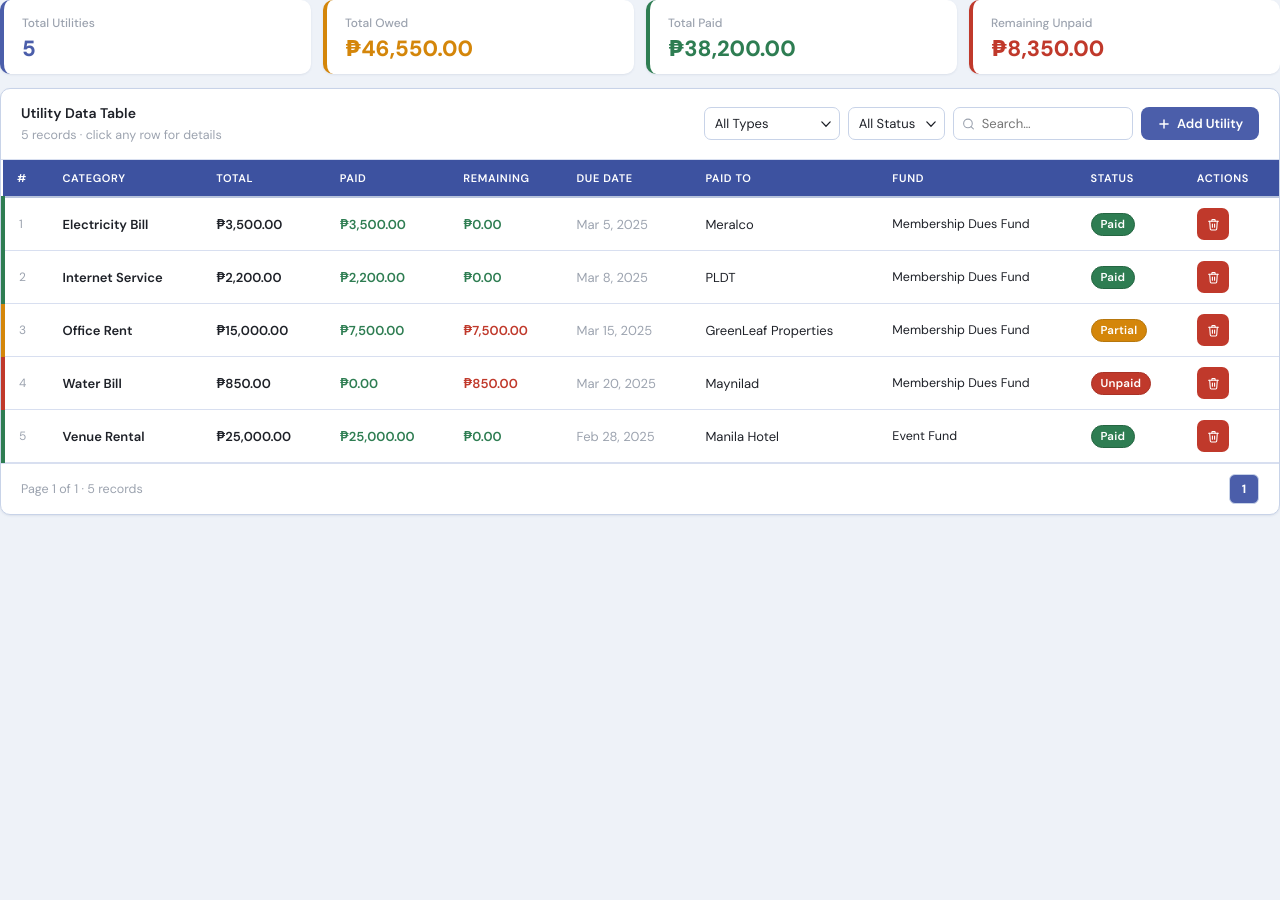
Test case: Edit Utility form › lowering the total to what is already paid turns the bill Paid; raising it keeps it Partial
Click the text "Office Rent": coordinates (125, 330) [48,304,202,357]
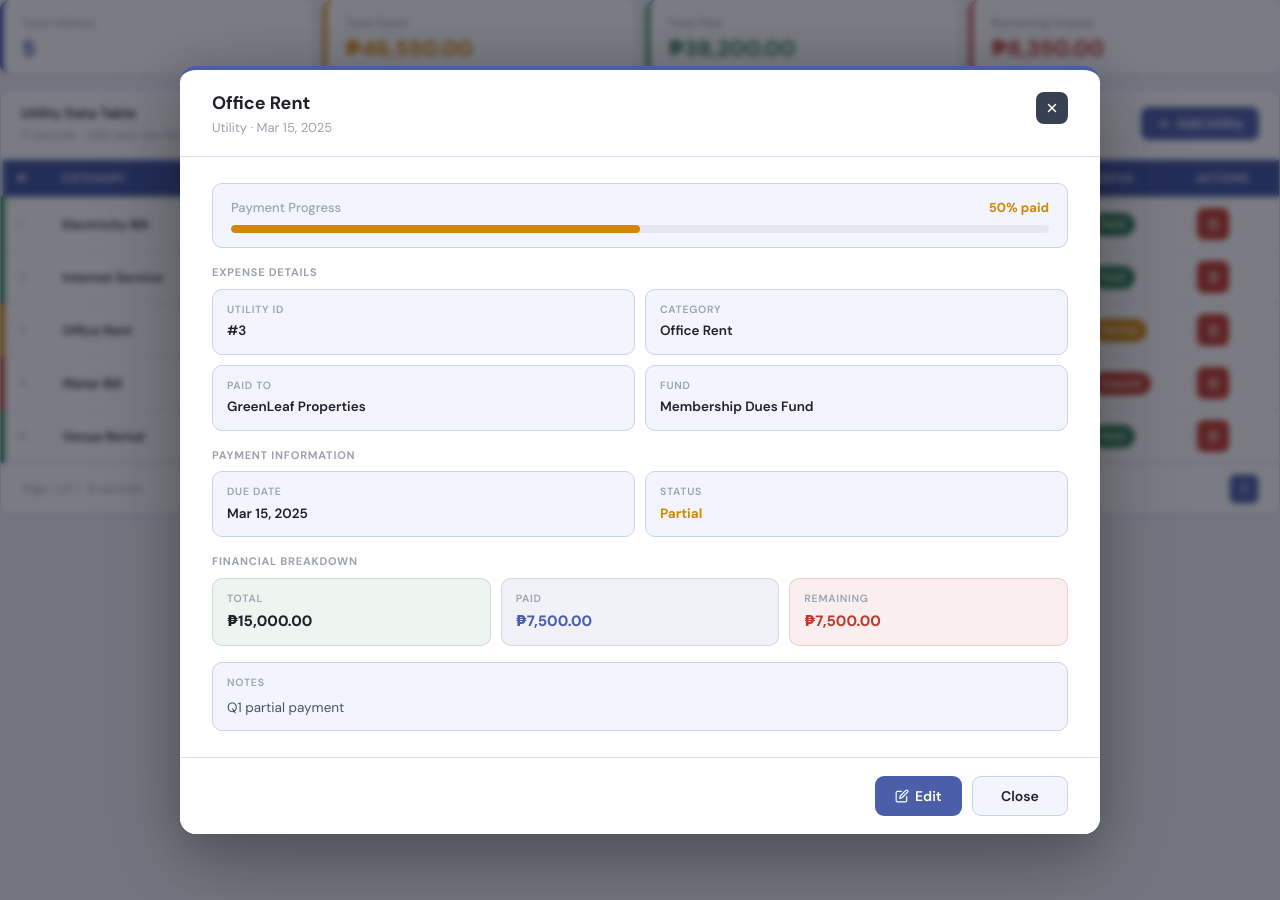
Click the button "Edit": coordinates (919, 796) [875,776,962,816]
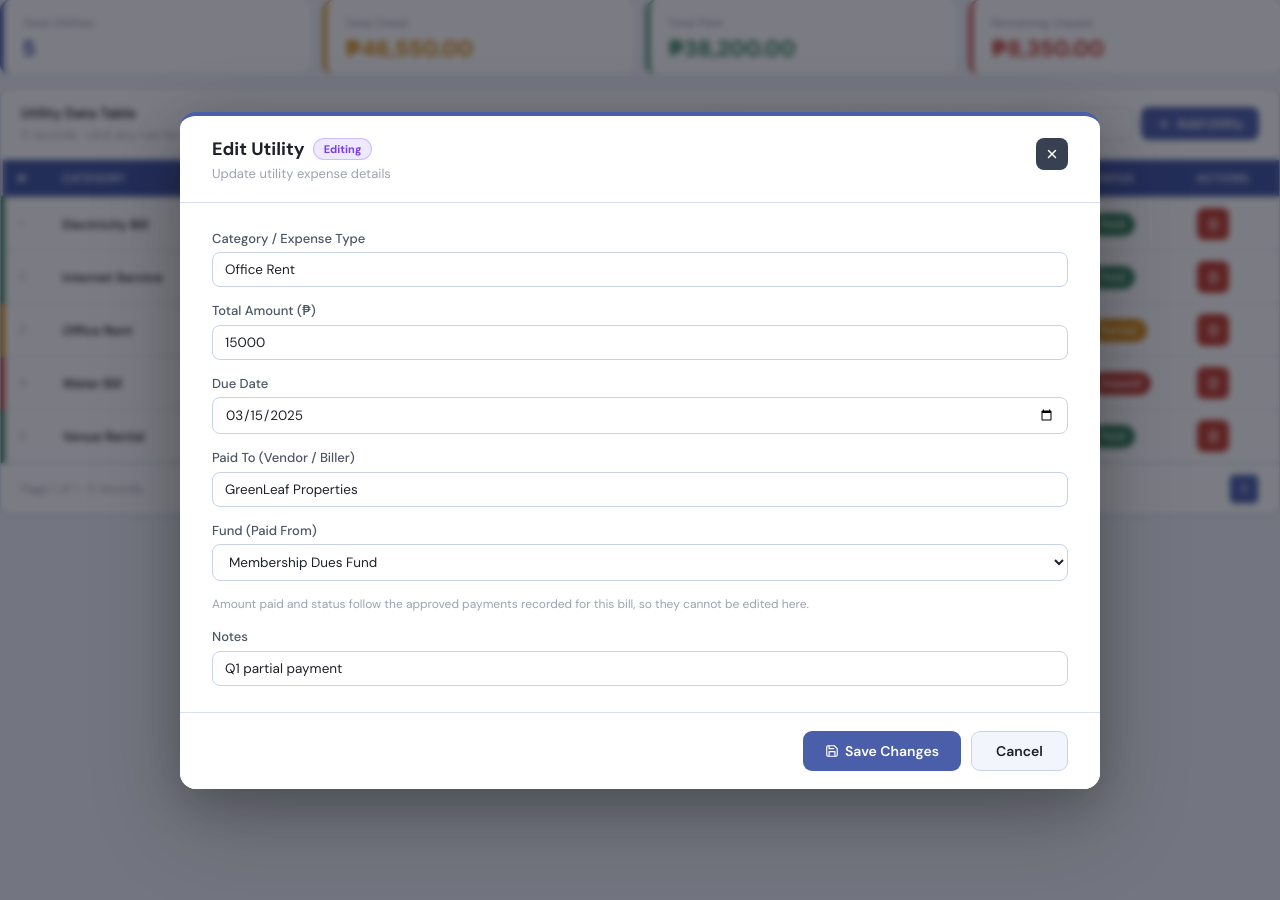
Expected: the text "Office Rent" shows "Partial", [1100,323,1137,338]
Replace the text in the number field with "7500": coordinates (640, 342) [212,324,1068,360]
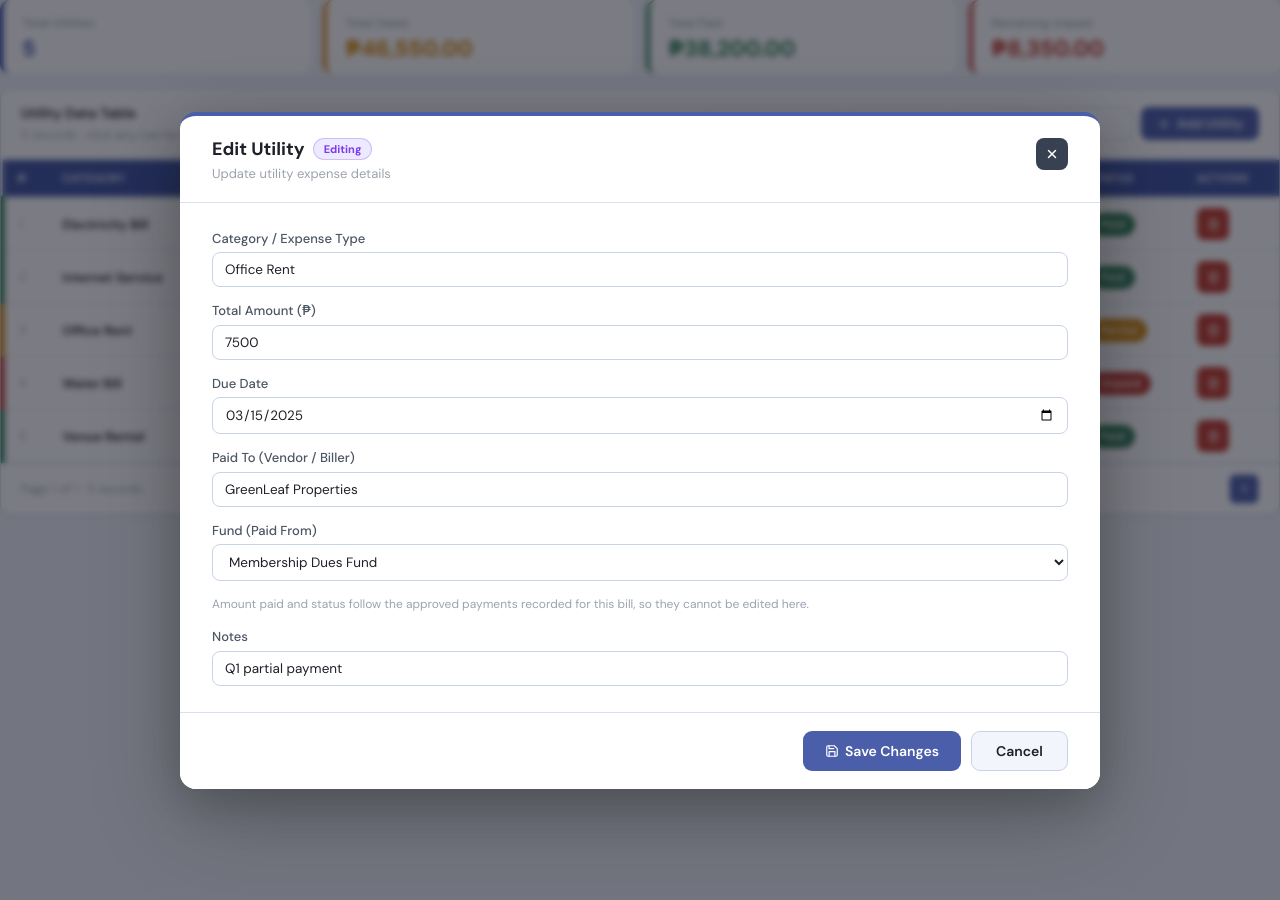
Click the button "Save Changes": coordinates (882, 750) [803,730,961,770]
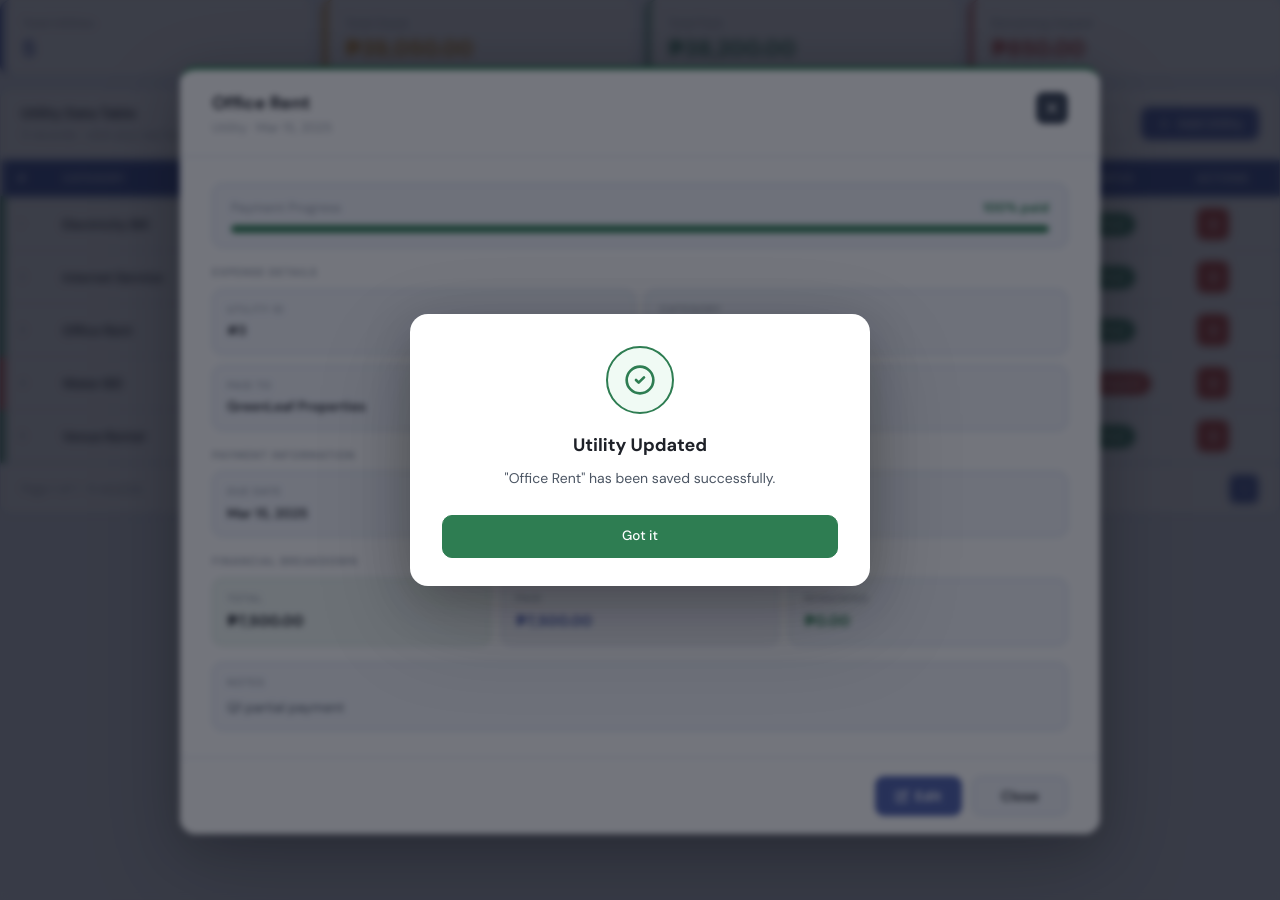
Expected: the text "Office Rent" shows "7,500.00", [216,322,281,338]
Now the text "Office Rent" shows "Paid", box [1100,323,1125,338]
Now the text "Office Rent" no longer shows "Partial"
